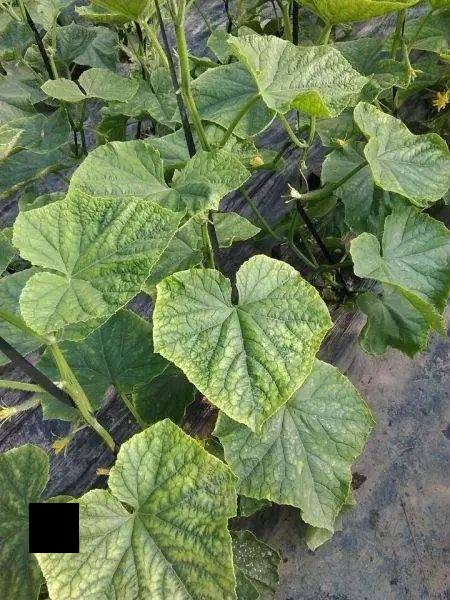cucumber_plant: (26, 177, 318, 418), (45, 420, 234, 600)
